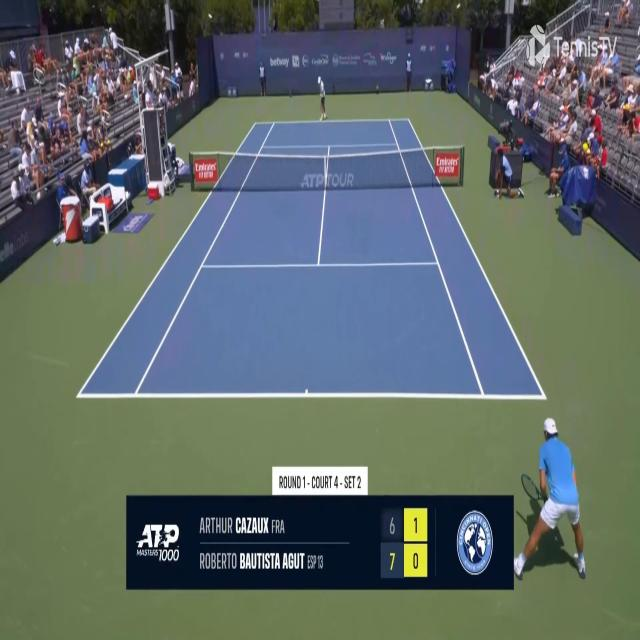tennis-player: (515, 412, 591, 588), (316, 75, 328, 122)
